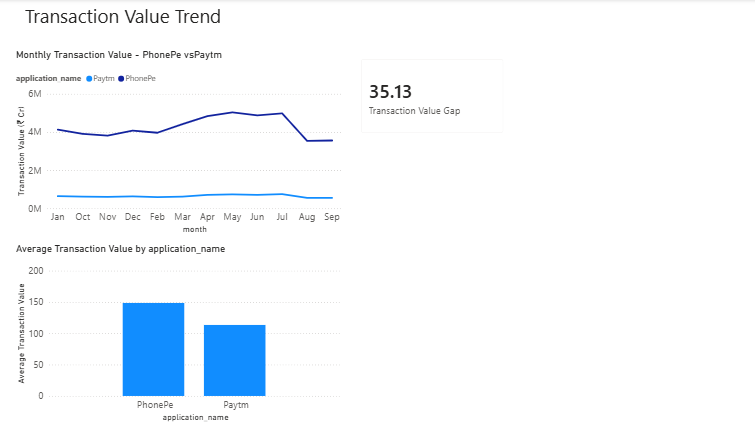

The page's visual inventory and layout, read from the dashboard file:
{"tool":"powerbi","page":{"name":"Page 4","canvas":[1280,720],"ordinal":3},"visuals":[{"type":"lineChart","title":"Monthly Transaction Value - PhonePe vsPaytm","fields":{"Category":["upi_apps_historical.month"],"Y":["Sum(upi_apps_historical.total_value_cr)"],"Series":["upi_apps_historical.application_name"]},"box":[22,84.7,562.1,318.3],"z":0},{"type":"textbox","box":[37.2,0,352.2,59.3],"z":1000},{"type":"clusteredColumnChart","fields":{"Y":["upi_apps_historical.Average Transaction Value"],"Category":["upi_apps_historical.application_name"]},"box":[22,413,562,307],"z":2000},{"type":"cardVisual","fields":{"Data":["upi_apps_historical.Transaction Value Gap"]},"box":[594.3,84.7,276,159.2],"z":3000}]}

Visuals, with their boxes in screenshot pixels (x1, y1, x2, y2), scaled from the page's 1280x720 canvas onto the 755x424 screenshot:
"Monthly Transaction Value - PhonePe vsPaytm" lineChart: bbox(13, 50, 345, 237)
textbox: bbox(22, 0, 230, 35)
clusteredColumnChart - upi_apps_historical.Average Transaction Value x upi_apps_historical.application_name: bbox(13, 243, 344, 423)
cardVisual - upi_apps_historical.Transaction Value Gap: bbox(351, 50, 513, 144)
